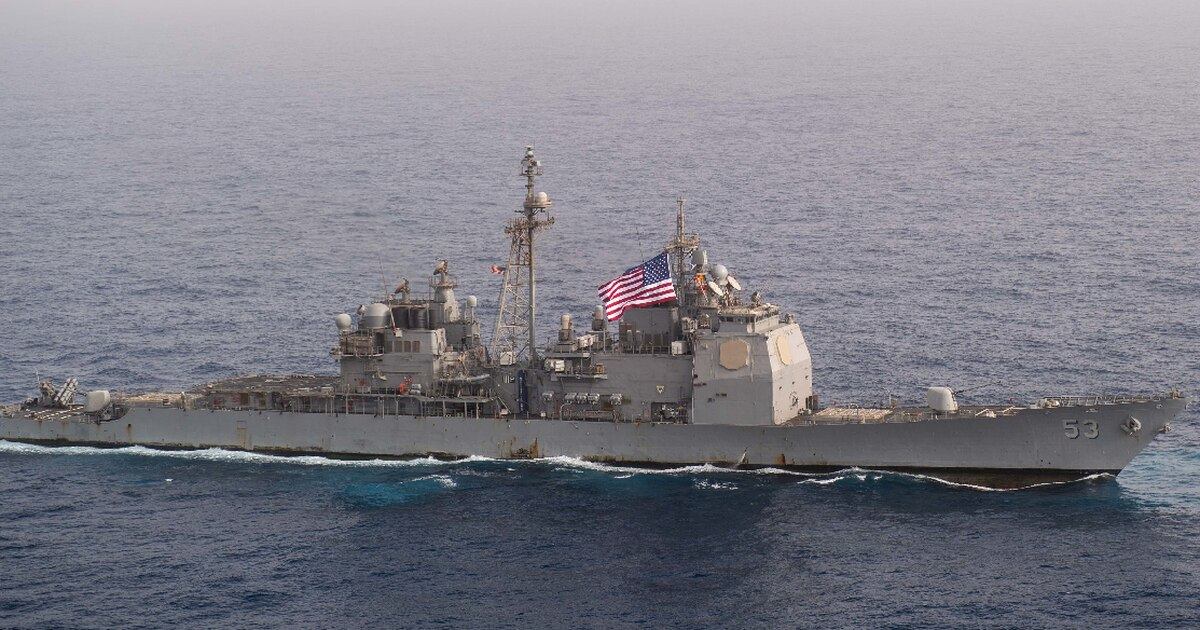rust: (497, 436, 547, 458), (773, 453, 796, 468), (122, 422, 139, 441)
